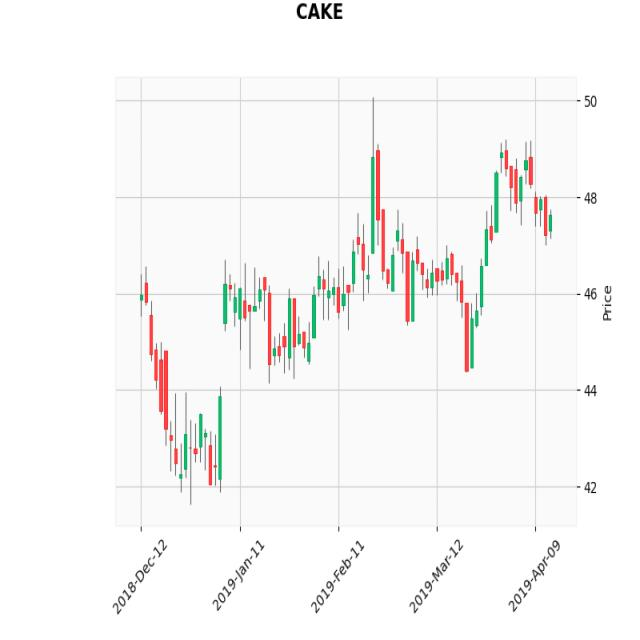Double-Top: (483, 124, 553, 240)
